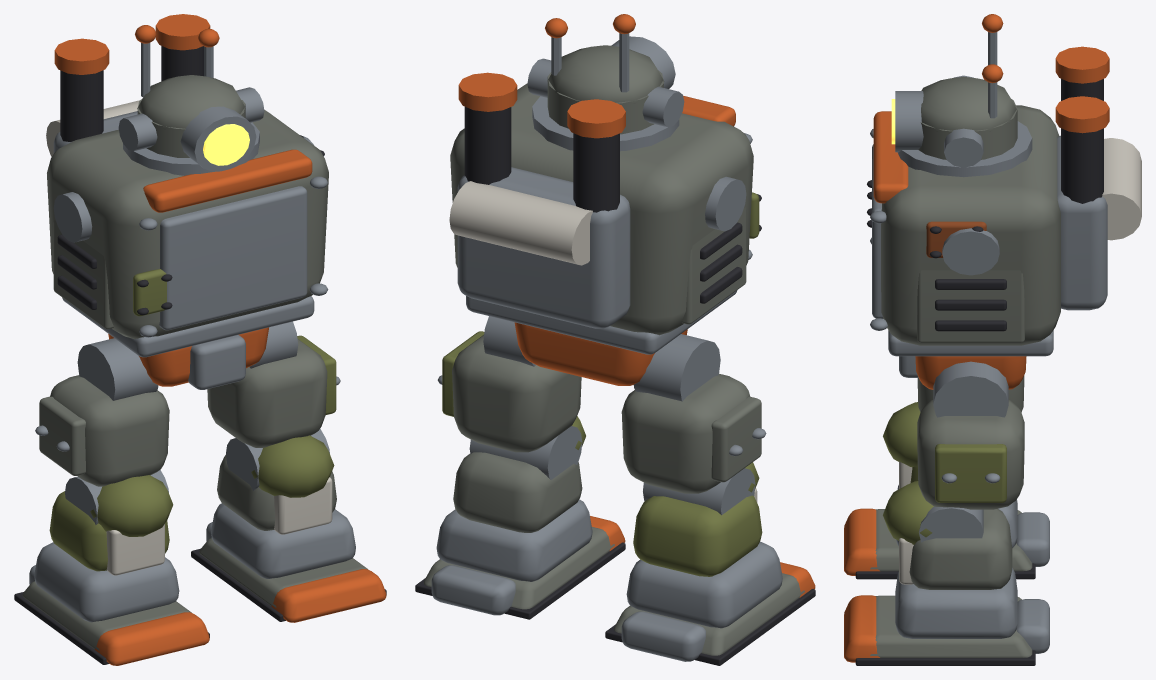
File: ch_brute.glb
The picture shows the model from 3 angles, left to right: view 1: azimuth 30°, elevation 25°; view 2: azimuth 150°, elevation 25°; view 3: azimuth 270°, elevation 25°; orthographic projection. The views are drawn at different scales.
Parts seen in each view (by area): view 1: ch_brute, limb_leg_l, limb_leg_r; view 2: ch_brute, limb_leg_l, limb_leg_r; view 3: ch_brute, limb_leg_r, limb_leg_l.
Part boxes in pixels (x1,y1,x2,y2): ch_brute: (46,14,328,389); limb_leg_l: (14,338,209,665); limb_leg_r: (191,321,386,622); ch_brute: (449,14,761,385); limb_leg_l: (605,334,815,665); limb_leg_r: (415,316,625,619); ch_brute: (867,14,1141,389); limb_leg_r: (844,361,1049,665); limb_leg_l: (844,375,1049,579).
Size of the model in its own units: 0.4463 by 0.8455 by 0.4032.
